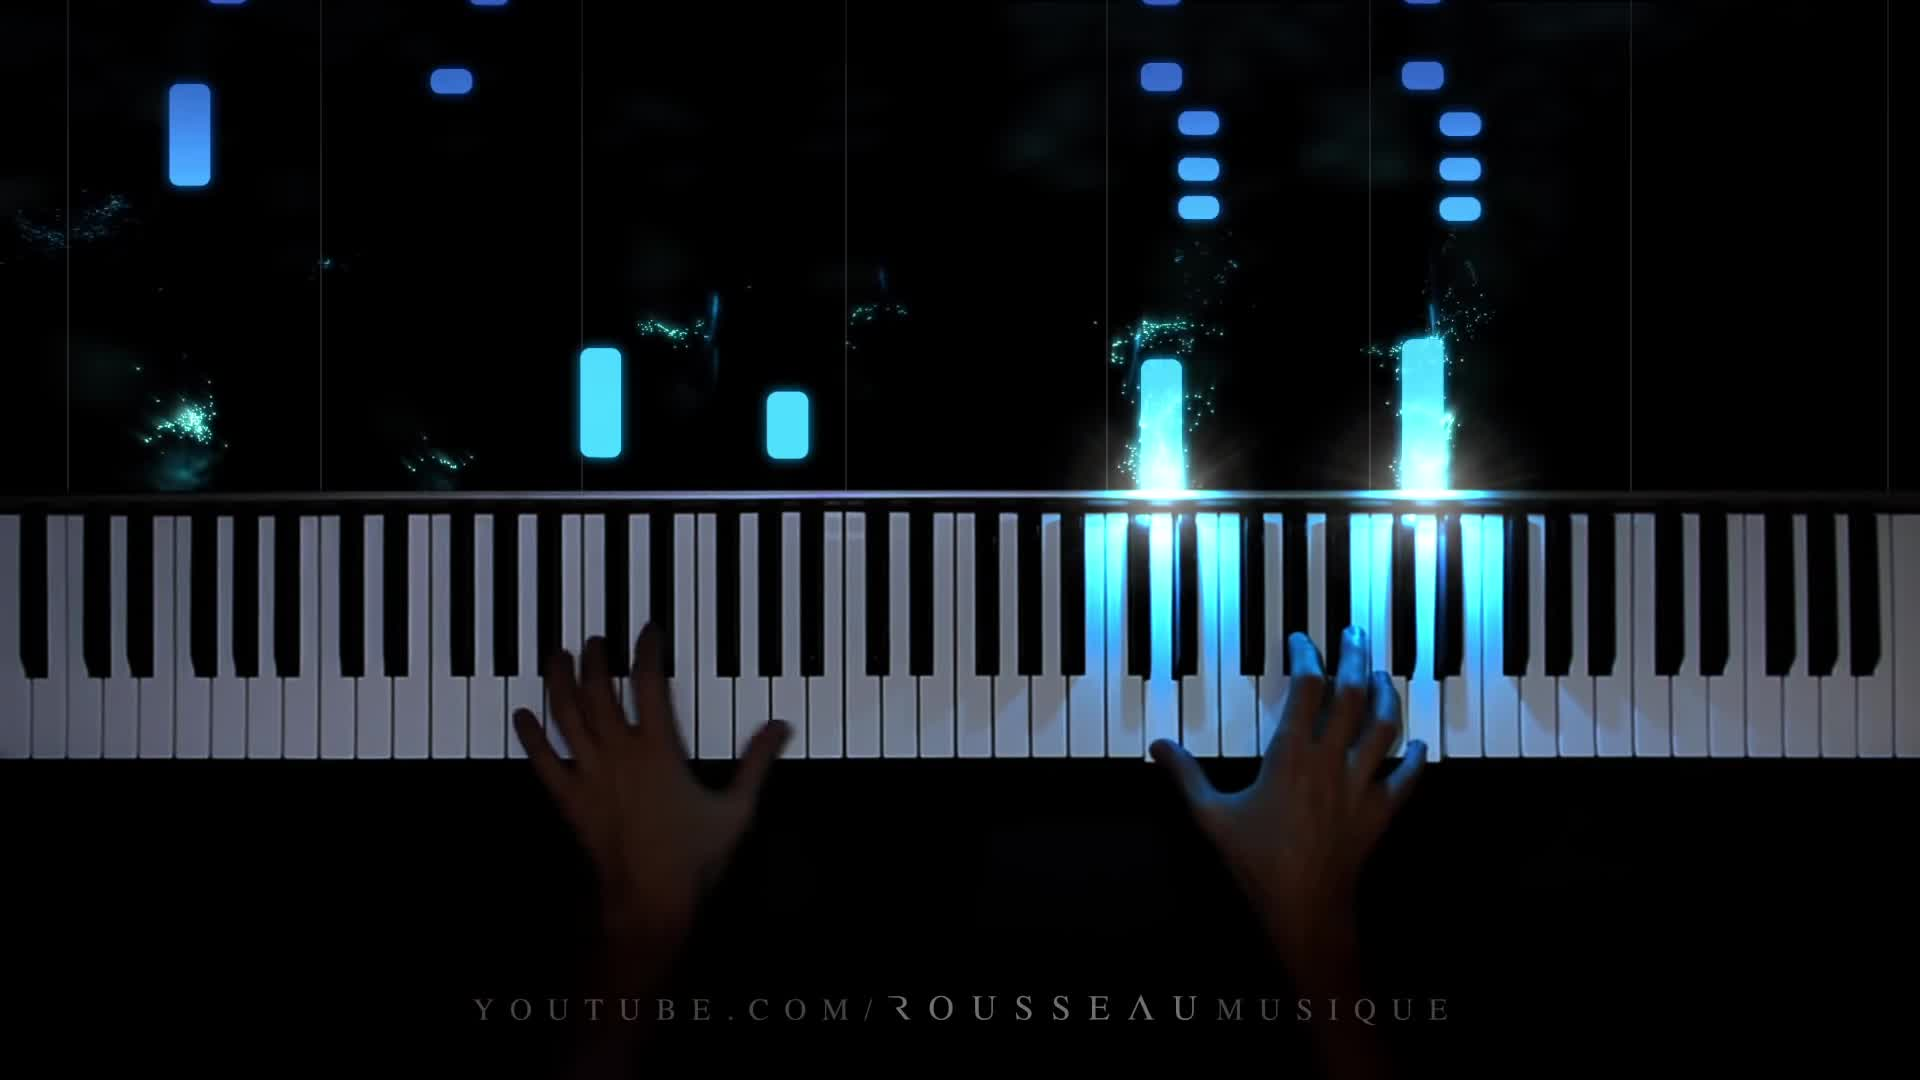left: (512, 618, 789, 886)
right: (1149, 622, 1428, 873)
